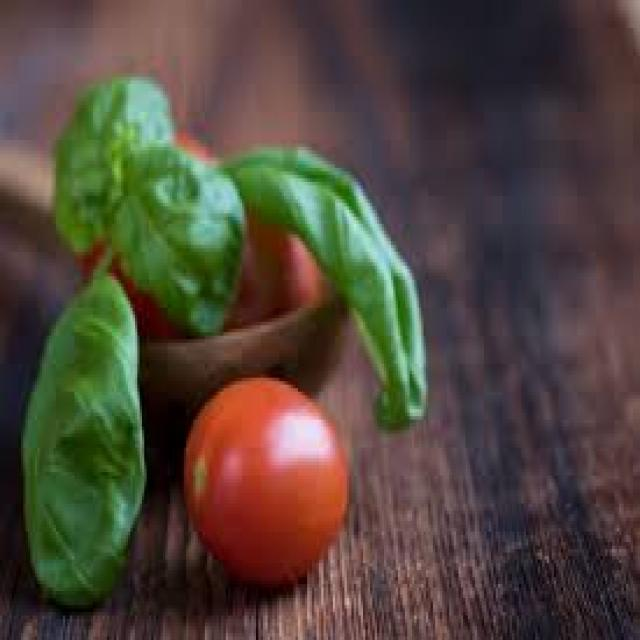organic waste: (221, 144, 426, 430), (75, 133, 349, 322), (17, 273, 144, 605), (179, 371, 347, 598), (107, 140, 249, 332), (51, 80, 168, 245)
